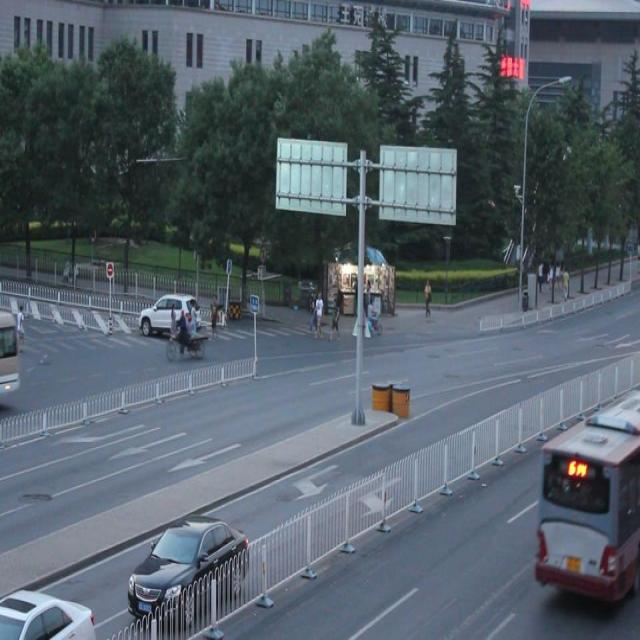car: (128, 516, 250, 626), (0, 586, 94, 640), (140, 294, 200, 339)
van: (536, 394, 640, 596)
